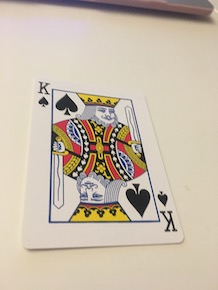KingOfSpades: (21, 71, 188, 254)
